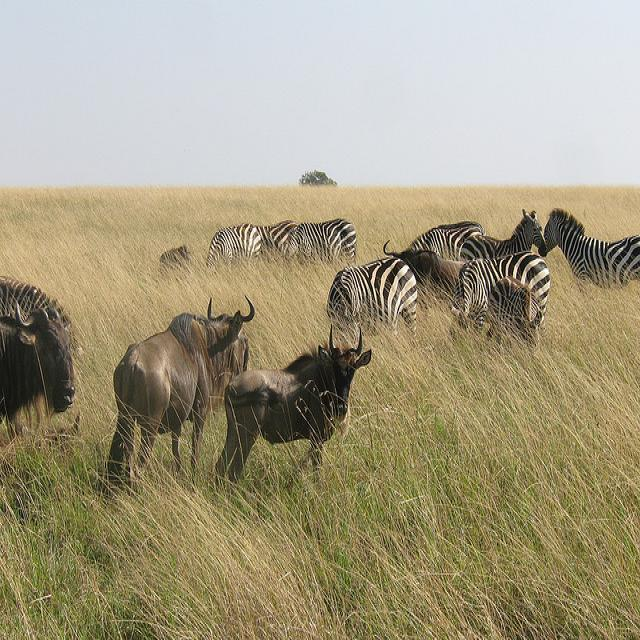cow: (0, 299, 75, 423)
